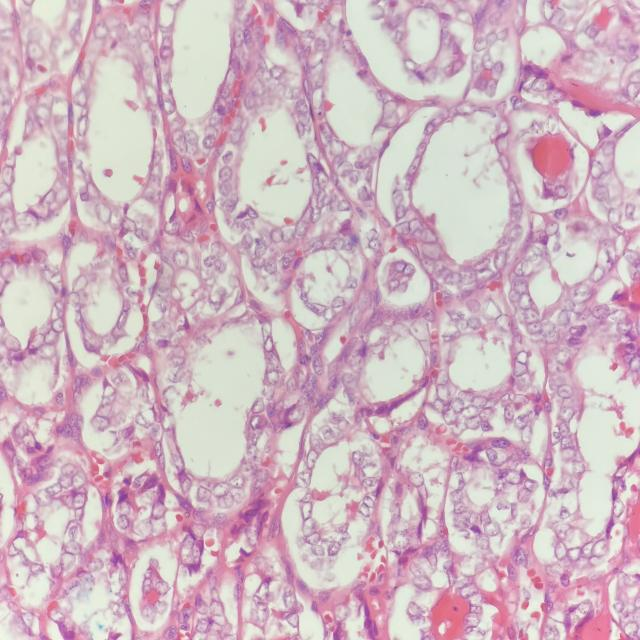TC: (398, 149, 430, 191), (299, 345, 332, 385), (285, 94, 320, 131), (89, 193, 118, 232), (426, 380, 462, 410), (328, 148, 359, 181), (178, 122, 206, 156), (278, 404, 314, 429), (417, 235, 446, 265), (259, 330, 286, 362), (266, 222, 292, 254), (23, 324, 47, 357), (170, 244, 196, 274), (513, 250, 539, 279), (261, 365, 287, 394), (361, 236, 390, 262), (513, 288, 541, 314), (328, 287, 351, 318), (0, 160, 23, 190), (483, 76, 506, 104), (213, 161, 238, 186), (163, 214, 185, 241), (403, 301, 428, 322)
